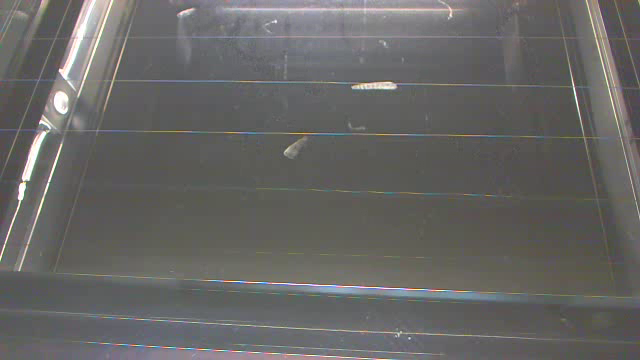alpha: (282, 135, 309, 162), (350, 81, 399, 92), (176, 6, 200, 23)
